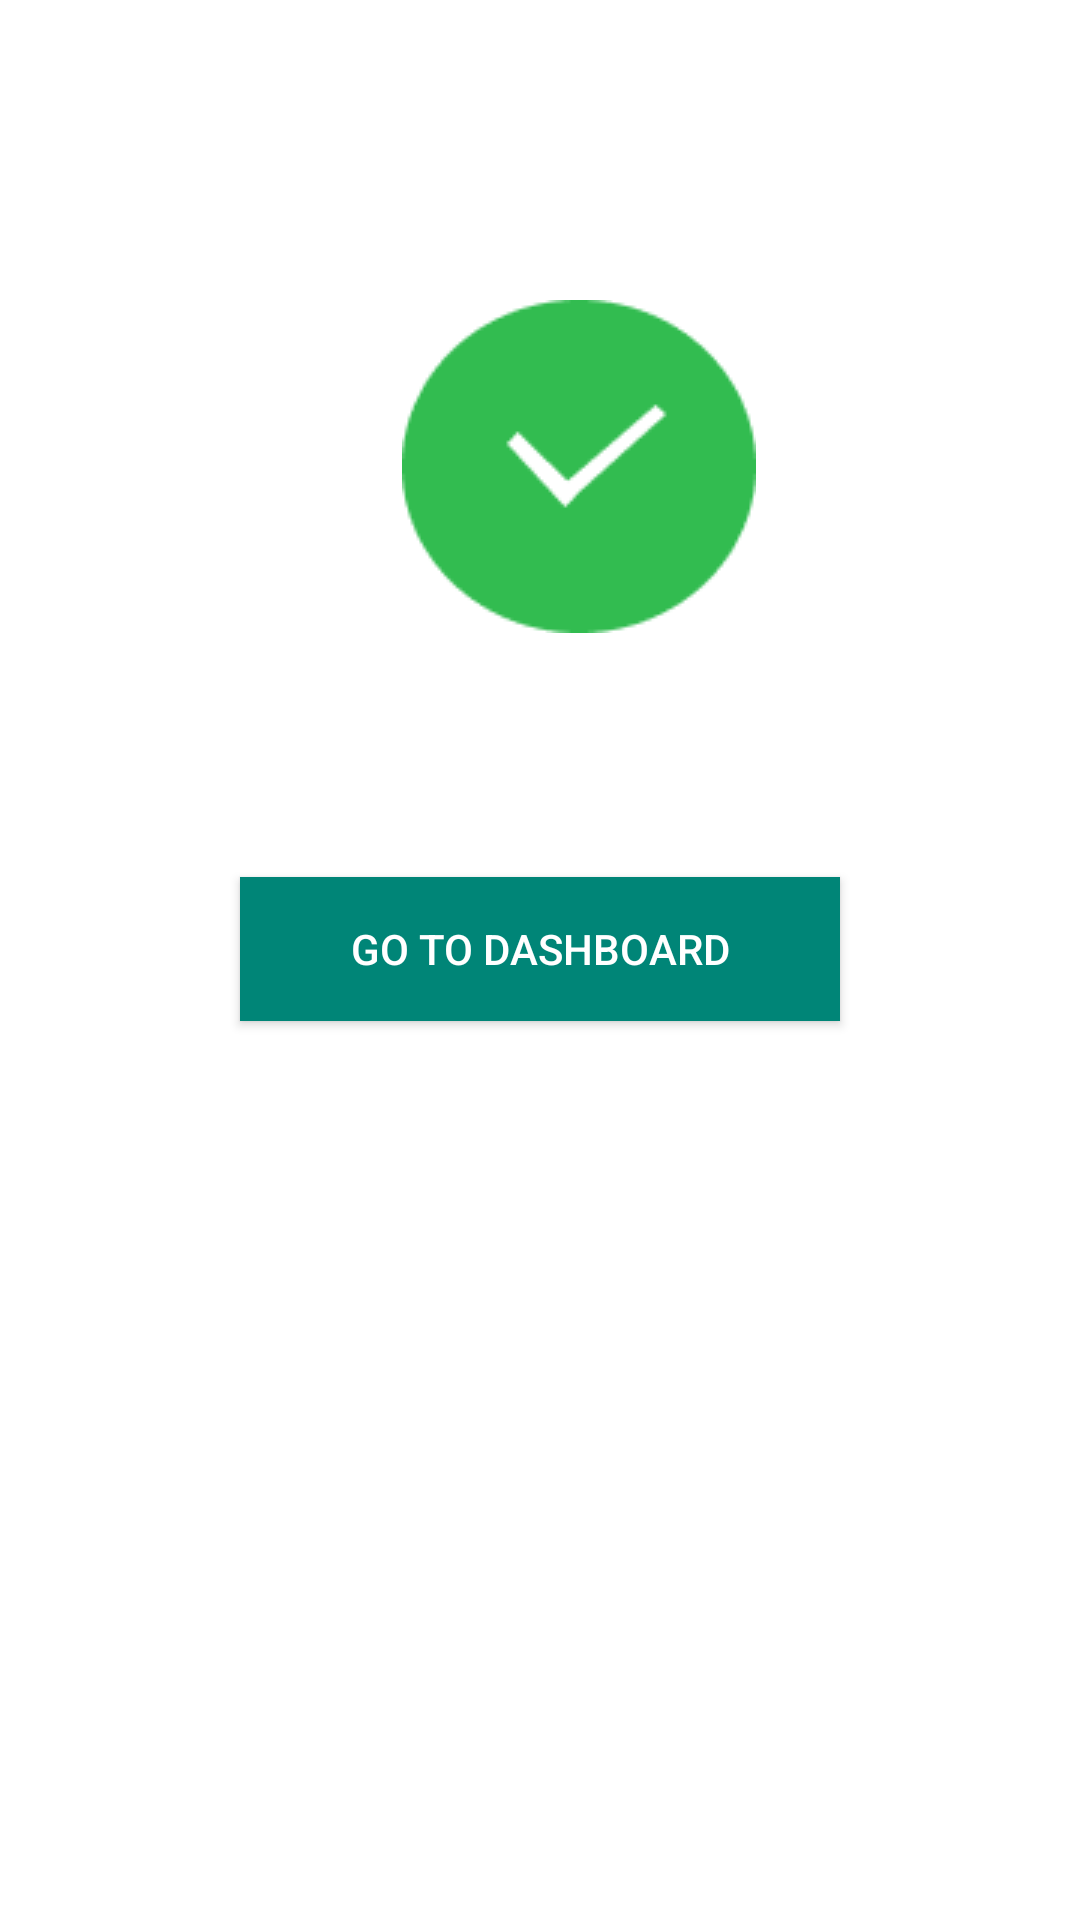

Icon bounding boxes for this 1080x1920 phone screenshot, format (x1, y1, x2, y2):
success: (402, 300, 756, 633)
